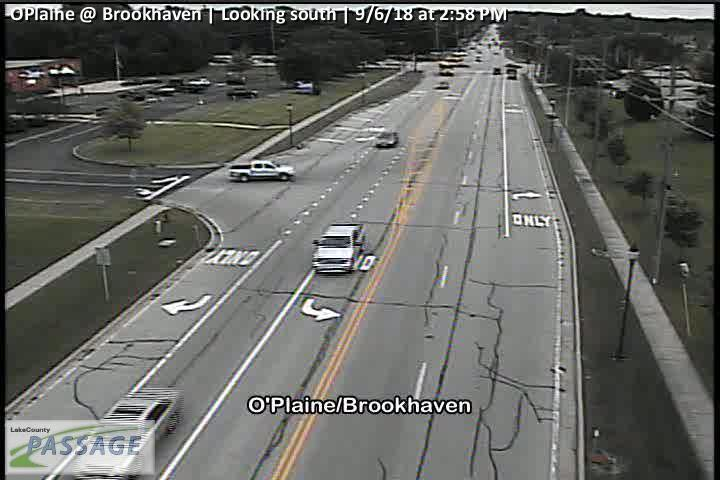SUV: (225, 85, 258, 99), (505, 69, 516, 79)
Sedan: (74, 386, 184, 480), (434, 82, 450, 89)
Truck: (312, 222, 364, 272), (227, 160, 296, 180), (374, 129, 398, 147)
